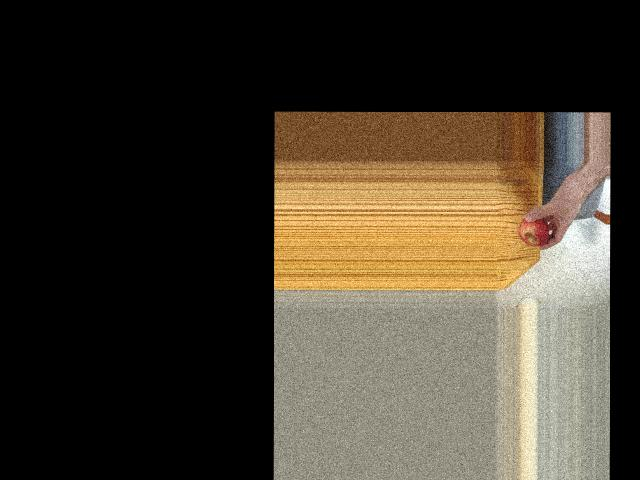apple: (519, 214, 550, 247)
